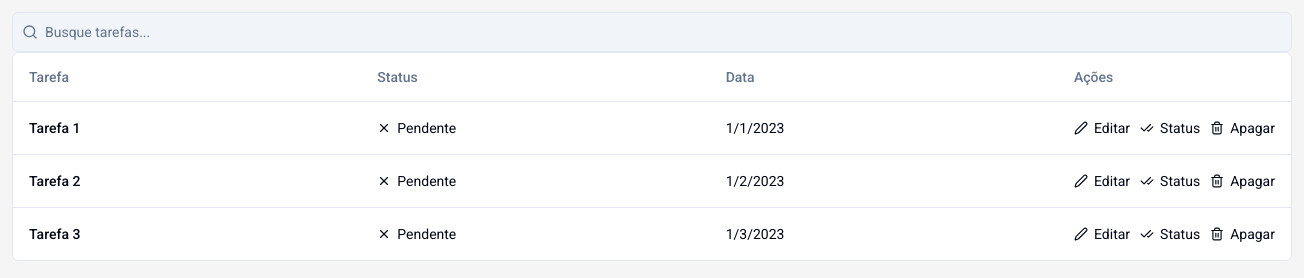
Test: SearchInput › Deve encontrar nenhuma tarefa
The image size is (1304, 278).
Type "Tarefa inexistente" into the search field with placeholder "Busque tarefas..." at (652, 32), box [12, 12, 1292, 52]
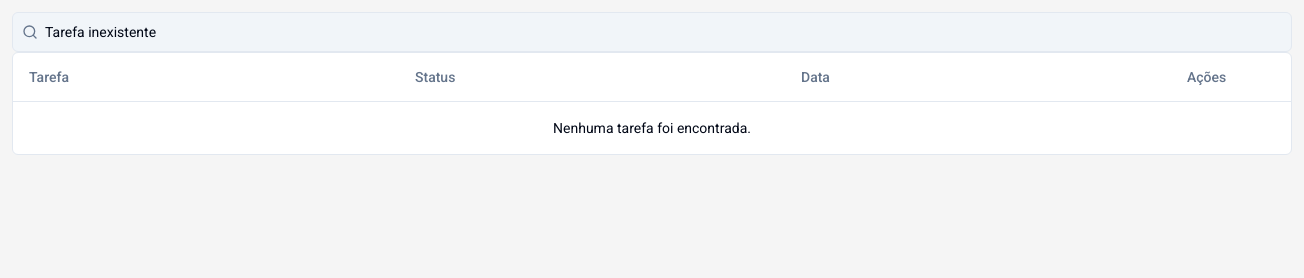
Result: the text "Nenhuma tarefa foi encontrada." is shown at [13, 101, 1291, 154]
Result: the text "Tarefa 1" is gone
Result: the text "Tarefa 2" is gone
